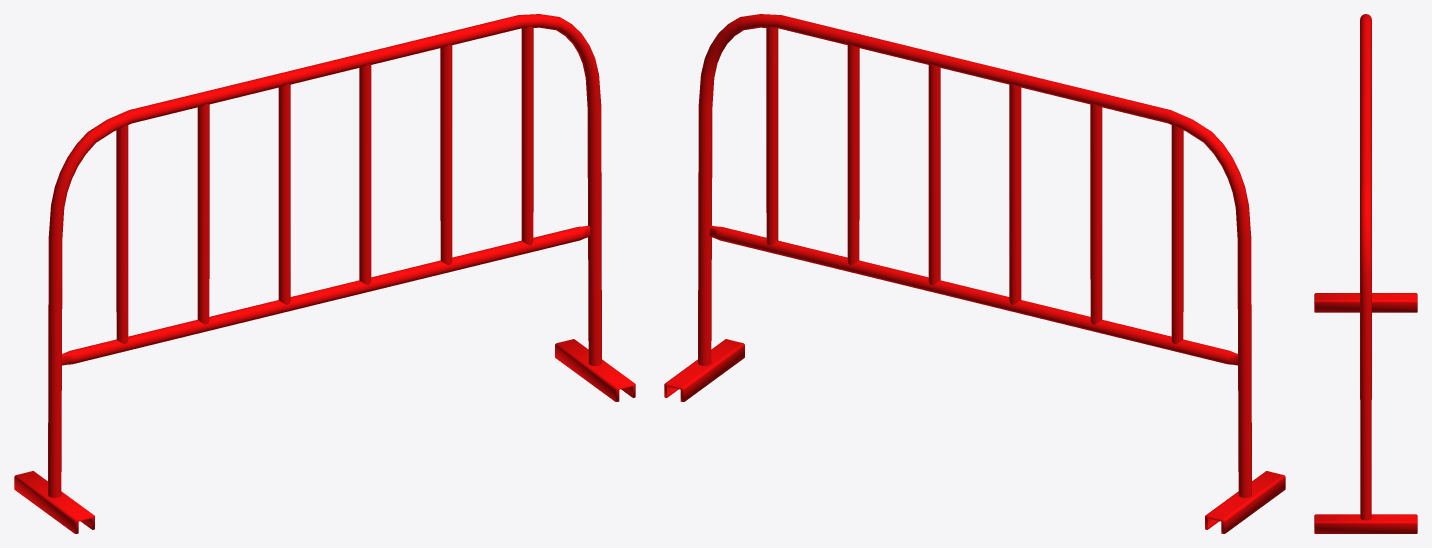
File: fence_modelv2.fbx
3 renders of one model, left to right at view 1: azimuth 30°, elevation 25°; view 2: azimuth 150°, elevation 25°; view 3: azimuth 270°, elevation 25°, orthographic. The views are drawn at different scales.
Parts seen in each view (by area): view 1: street_fence.v2.001; view 2: street_fence.v2.001; view 3: street_fence.v2.001.
Boxes of the visible parts, x1,y1,x2,y2 form: street_fence.v2.001: (14, 14, 635, 533); street_fence.v2.001: (664, 14, 1285, 533); street_fence.v2.001: (1314, 14, 1417, 533).
Bounding box in the file's own units: 207 × 134 × 39.5.
